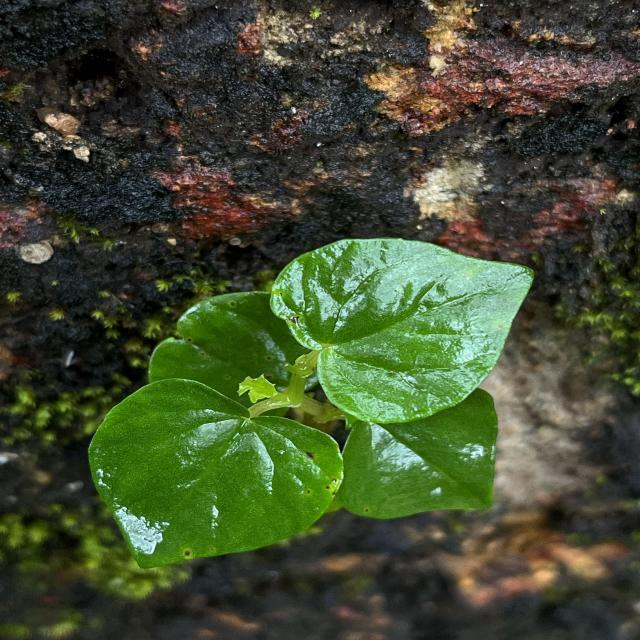Peperomia pellucida: (86, 373, 348, 570), (265, 236, 536, 426)
